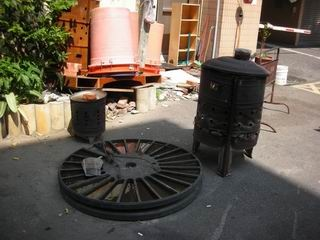bucket: (191, 47, 271, 178), (88, 7, 138, 67), (70, 88, 106, 144), (273, 64, 289, 86)
